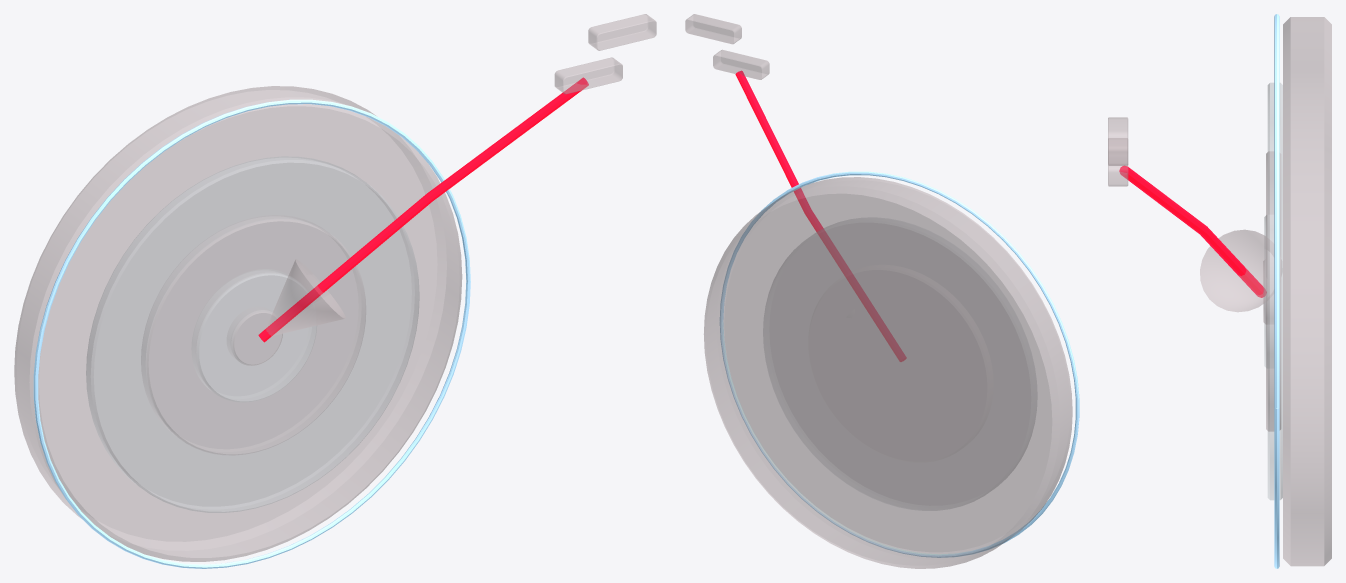
Rendered from 21-target.glb.
The picture shows the model from 3 angles, left to right: view 1: azimuth 30°, elevation 25°; view 2: azimuth 150°, elevation 25°; view 3: azimuth 270°, elevation 25°; orthographic projection. The views are drawn at different scales.
Parts seen in each view (by area): view 1: BC subtle ruby technical glass, BC thin clear technical glass, BC cool glass edge, BC ruby signal edge; view 2: BC subtle ruby technical glass, BC thin clear technical glass, BC cool glass edge, BC ruby signal edge; view 3: BC subtle ruby technical glass, BC thin clear technical glass, BC cool glass edge, BC ruby signal edge.
Part boxes in pixels (x1,y1,x2,y2): BC subtle ruby technical glass: [14, 14, 656, 561]; BC thin clear technical glass: [86, 156, 419, 512]; BC cool glass edge: [33, 99, 470, 568]; BC ruby signal edge: [258, 77, 588, 342]; BC subtle ruby technical glass: [685, 14, 1072, 568]; BC thin clear technical glass: [763, 218, 1036, 510]; BC cool glass edge: [719, 171, 1079, 557]; BC ruby signal edge: [735, 70, 906, 361]; BC subtle ruby technical glass: [1108, 17, 1331, 566]; BC thin clear technical glass: [1264, 82, 1282, 500]; BC cool glass edge: [1274, 14, 1279, 568]; BC ruby signal edge: [1119, 165, 1266, 297].
Bounding box in the file's own units: 2.27 × 2.06 × 0.733.
